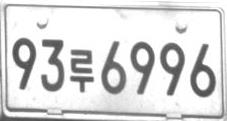3: (41, 38, 64, 91)
6: (189, 43, 216, 98), (100, 40, 126, 94)
9: (159, 42, 185, 95), (11, 37, 36, 90), (130, 41, 155, 94)
루: (70, 49, 94, 92)
